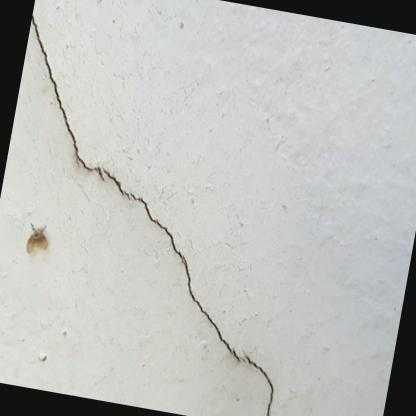crack: (30, 14, 90, 169), (182, 255, 231, 351), (129, 193, 183, 264), (243, 354, 272, 416), (102, 169, 122, 194), (231, 348, 239, 361), (97, 167, 102, 180), (123, 189, 128, 199)
